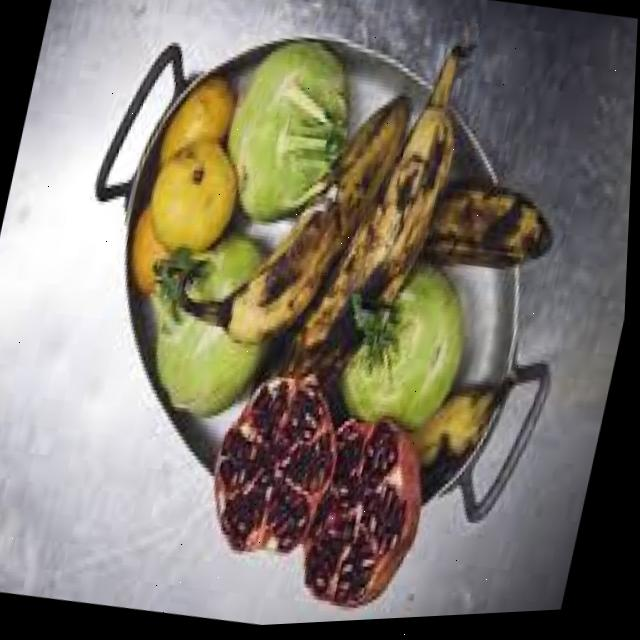Wet: (51, 0, 619, 637), (186, 366, 456, 632), (211, 33, 380, 242), (117, 102, 264, 279)
